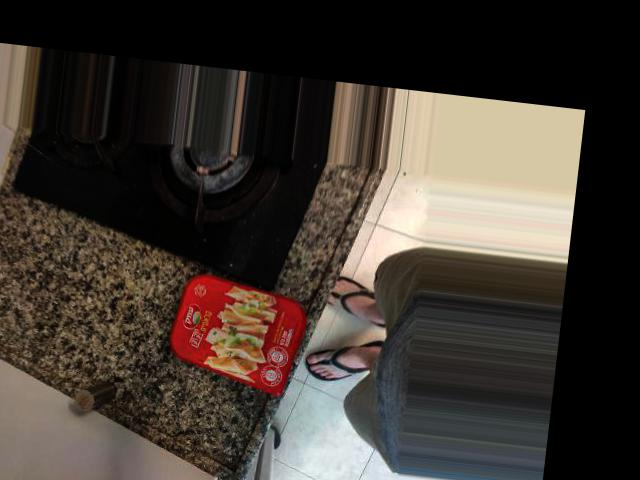cheese: (26, 234, 201, 365)
